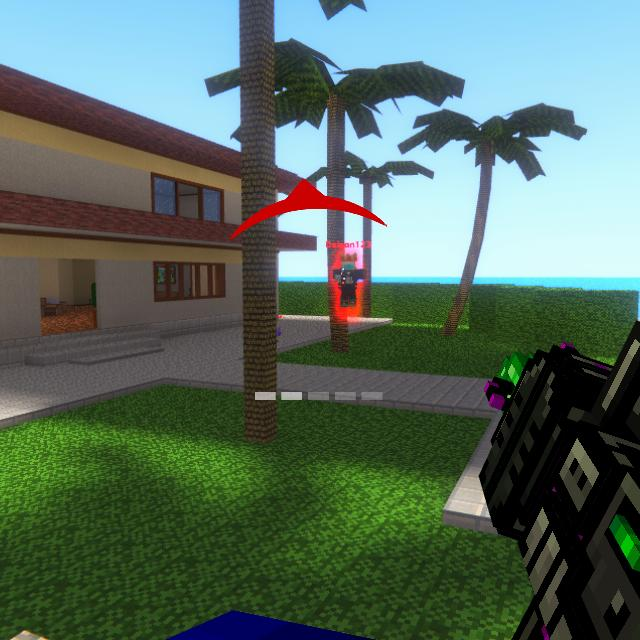Enemy: (333, 255, 366, 309)
